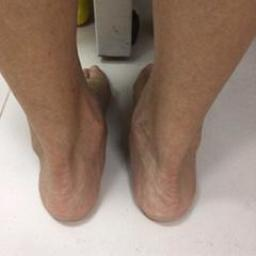Back View -Both Feet-: (6, 56, 235, 228)
